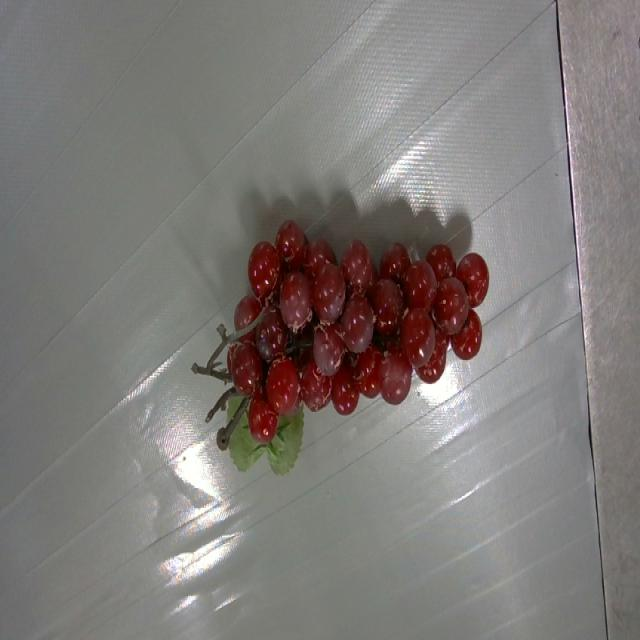grape: (192, 221, 489, 474)
